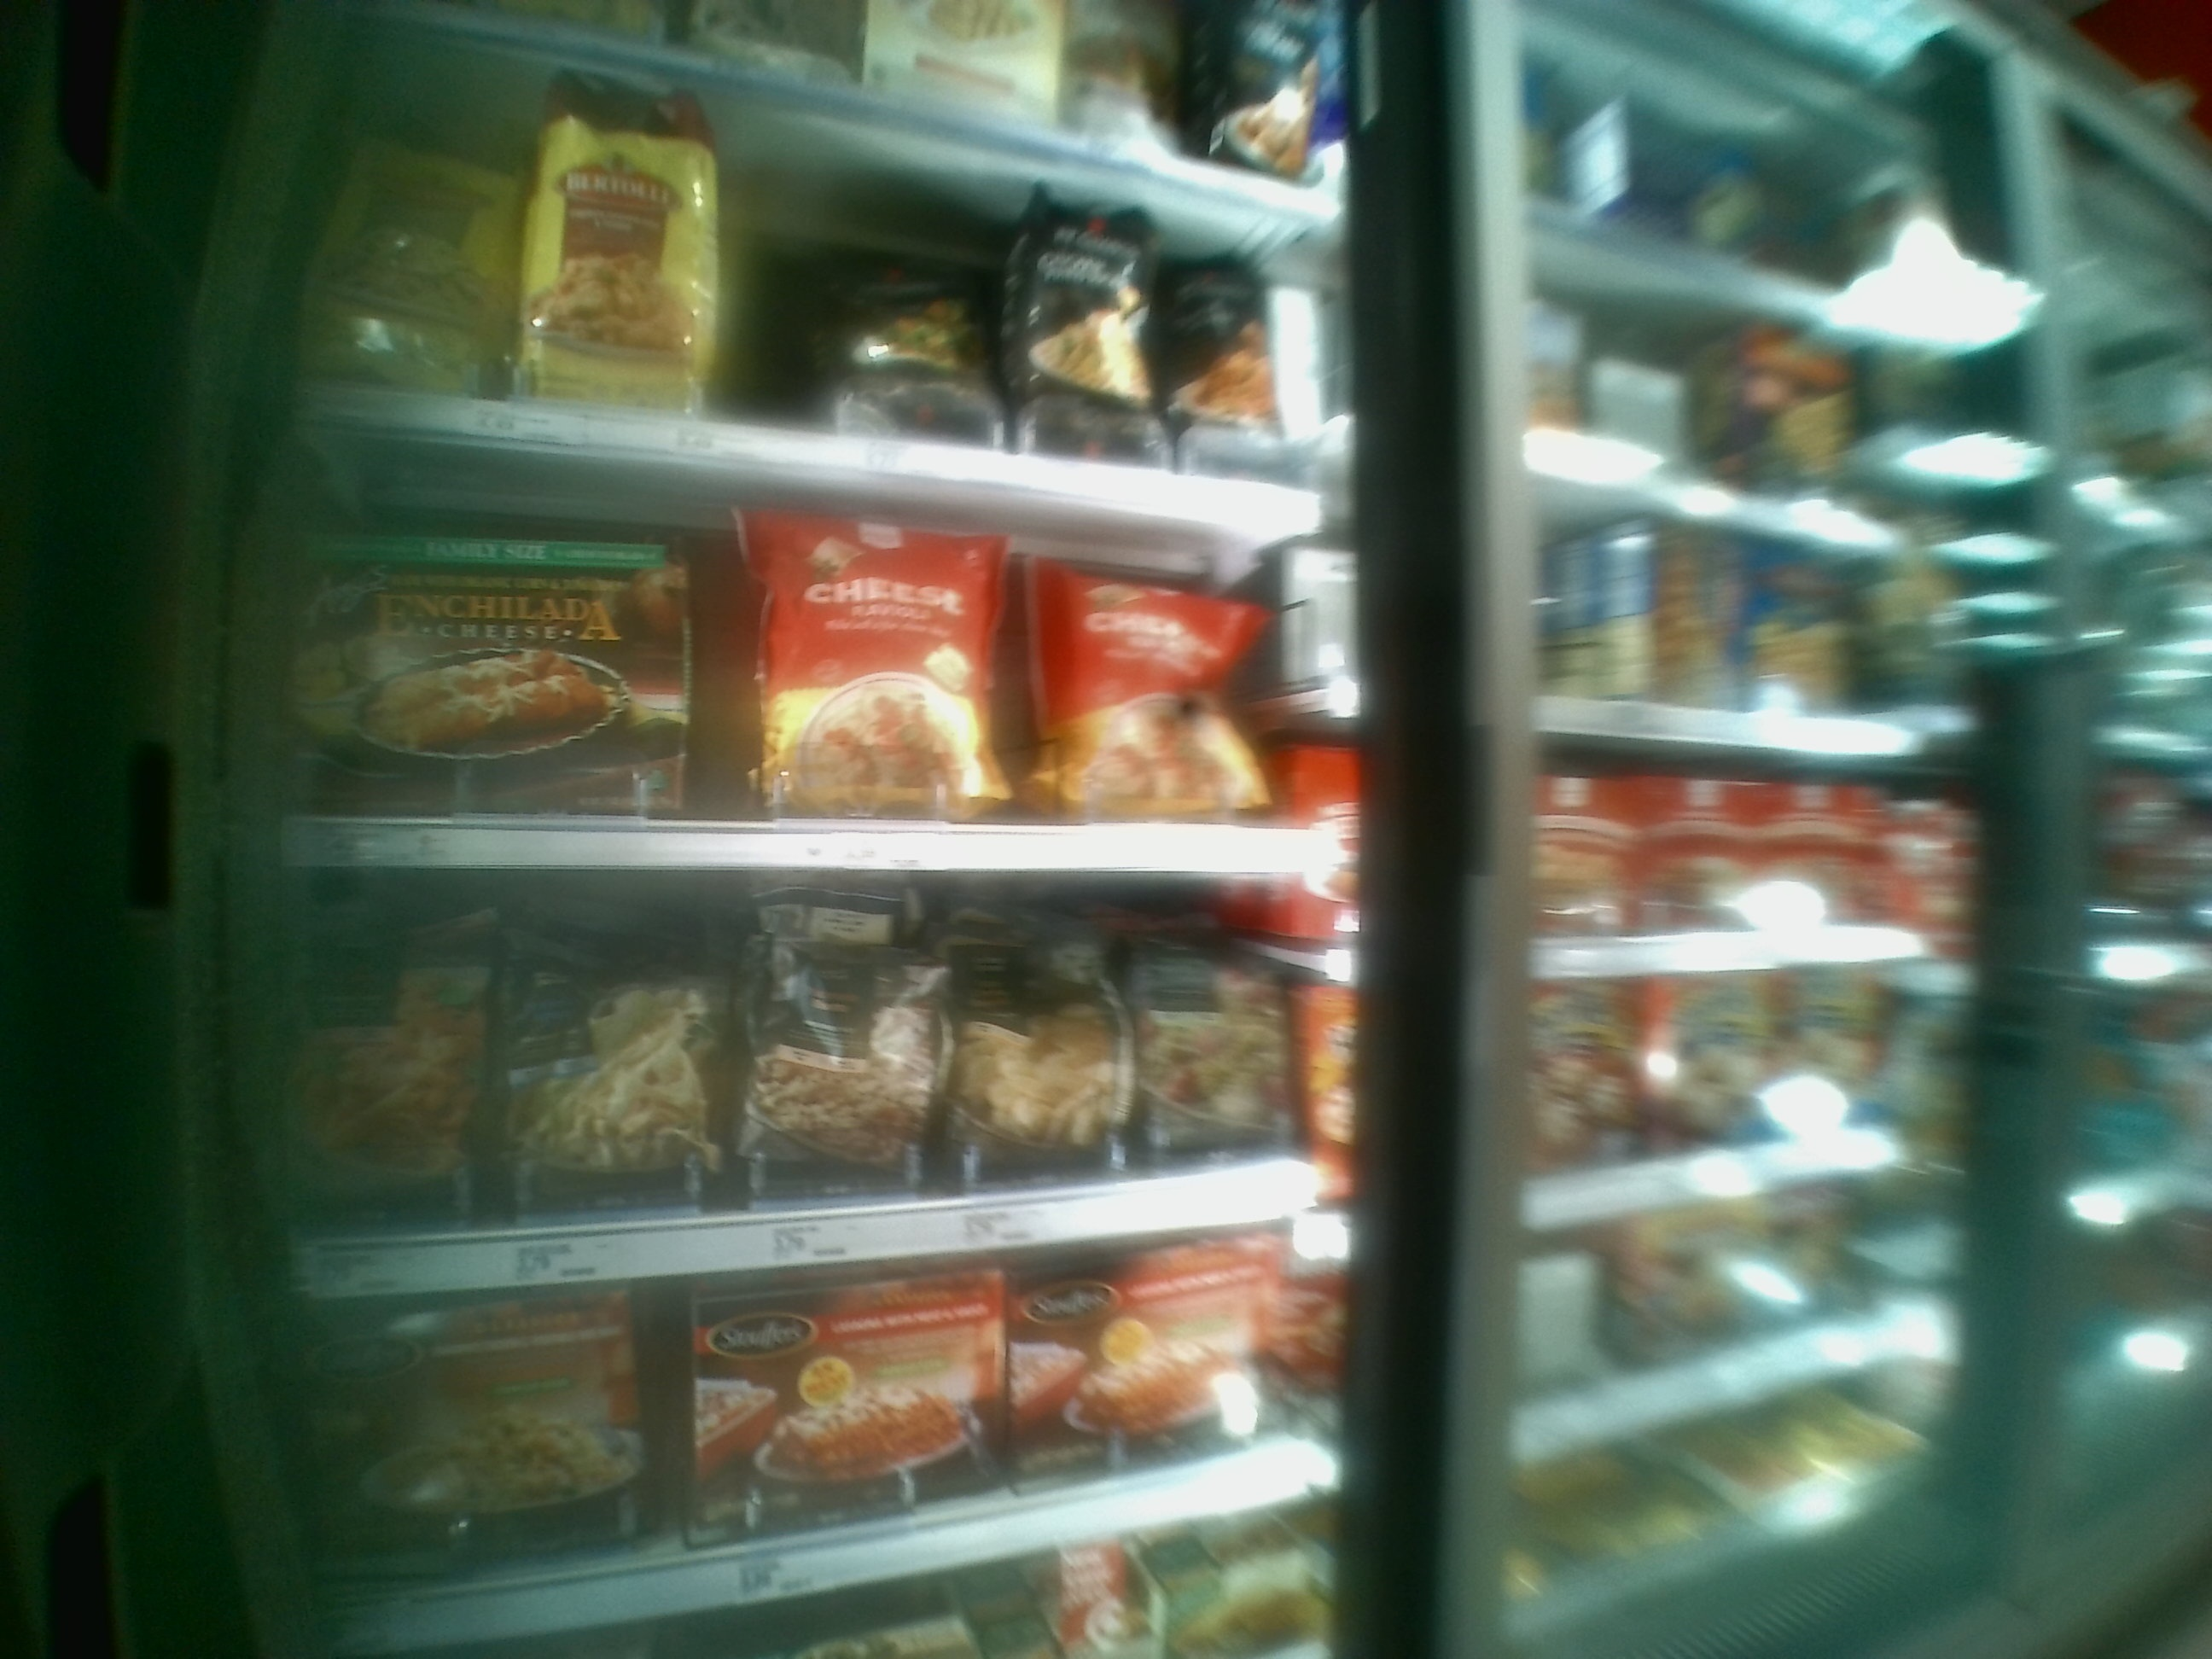shelf: (258, 859, 1339, 1225)
